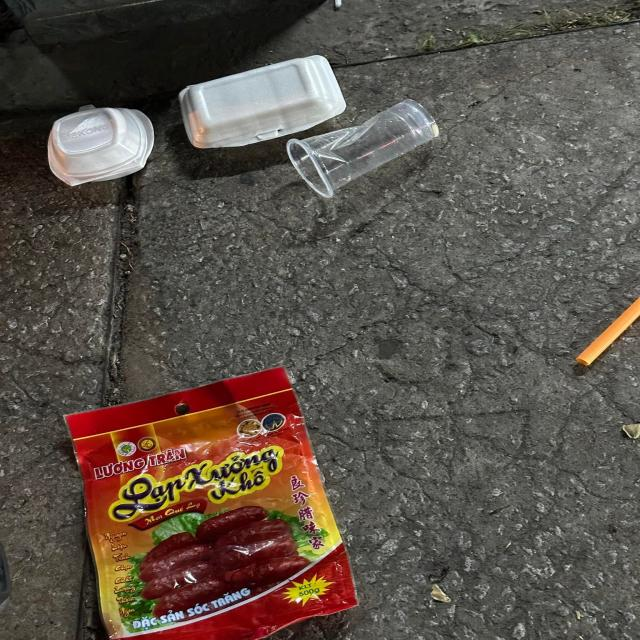drinking straw: (577, 296, 640, 366)
foam box: (180, 55, 344, 148), (48, 108, 154, 186)
plastic glass: (286, 100, 440, 199)
snack package: (62, 367, 356, 640)
